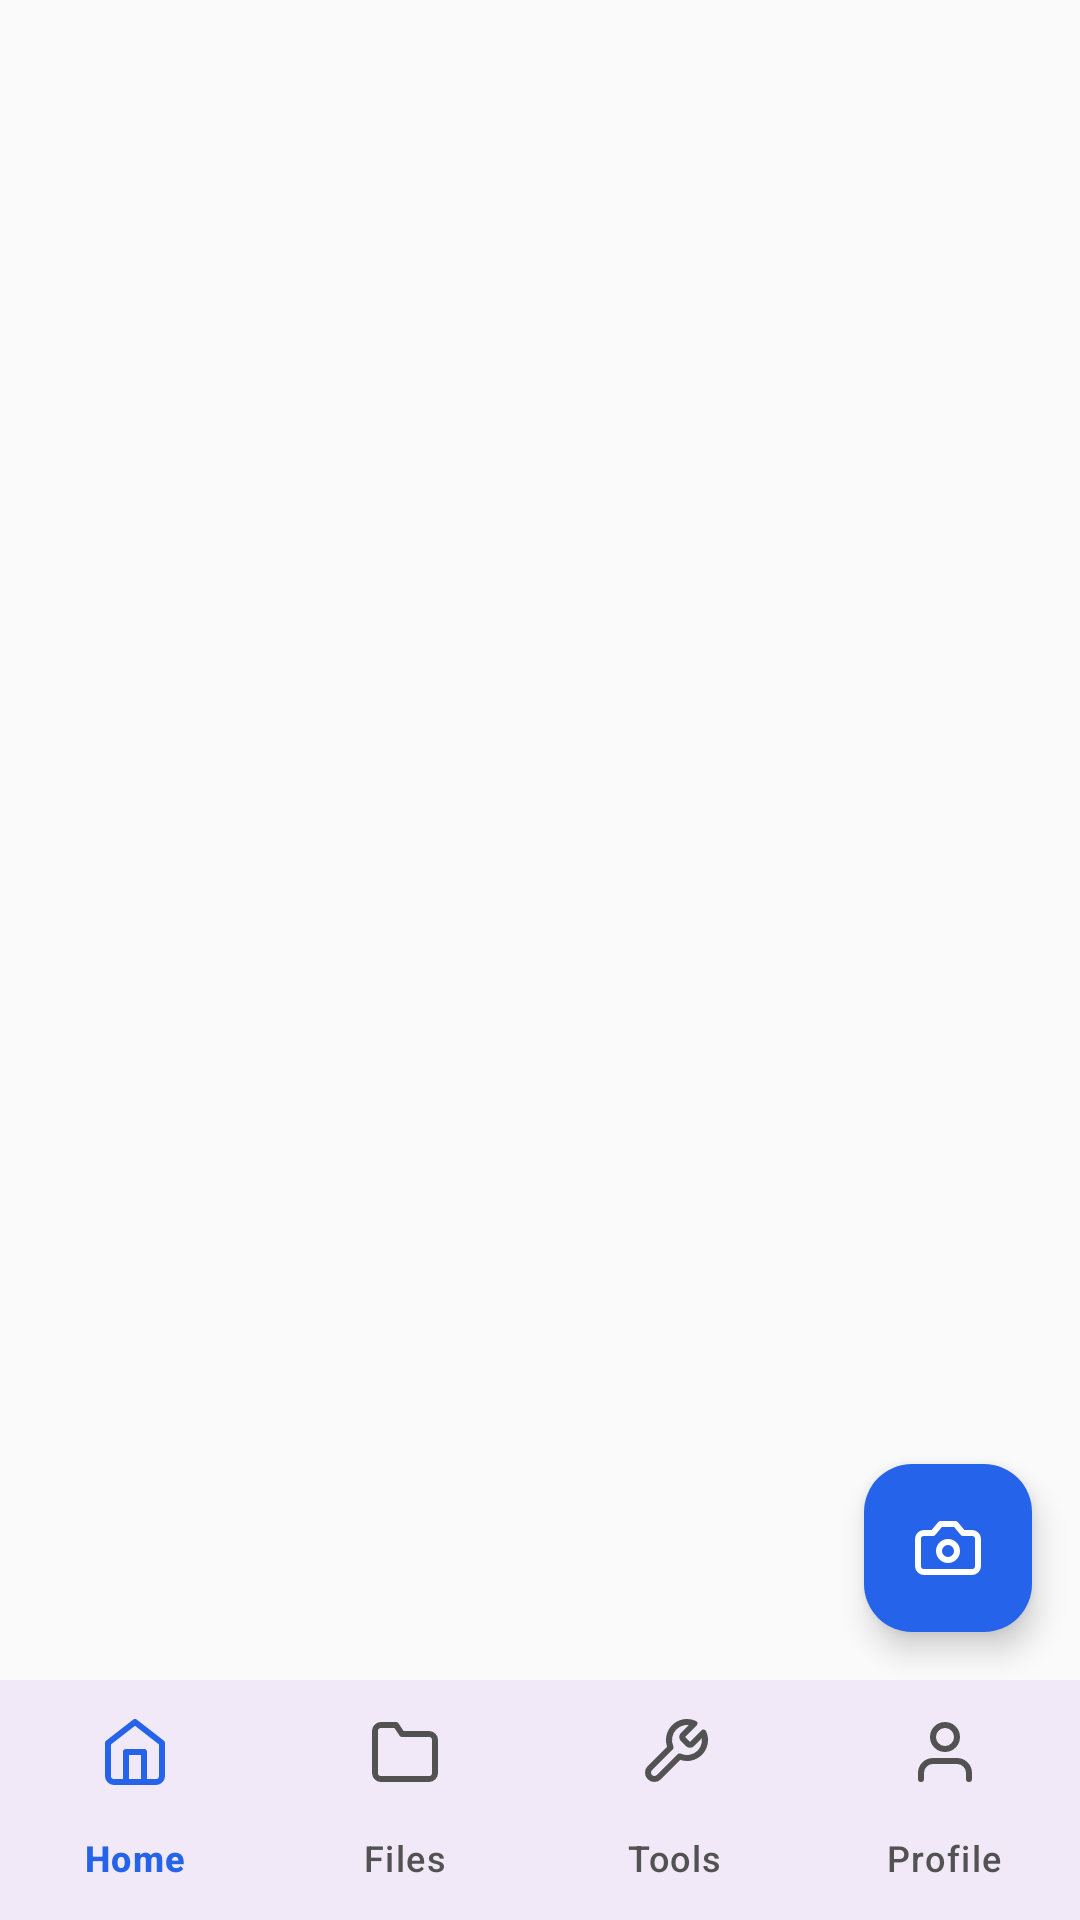

Screen size 1080px x 1920px. Icon name, then its center in pixels as (x,y):
Scan Document: (948,1548)
